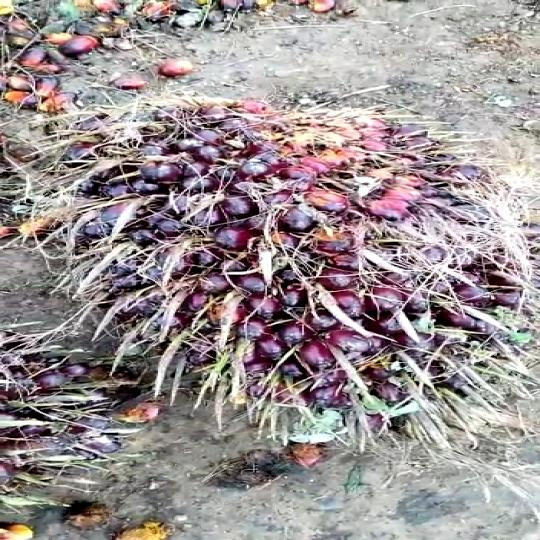kurang masak: (46, 87, 540, 443)
